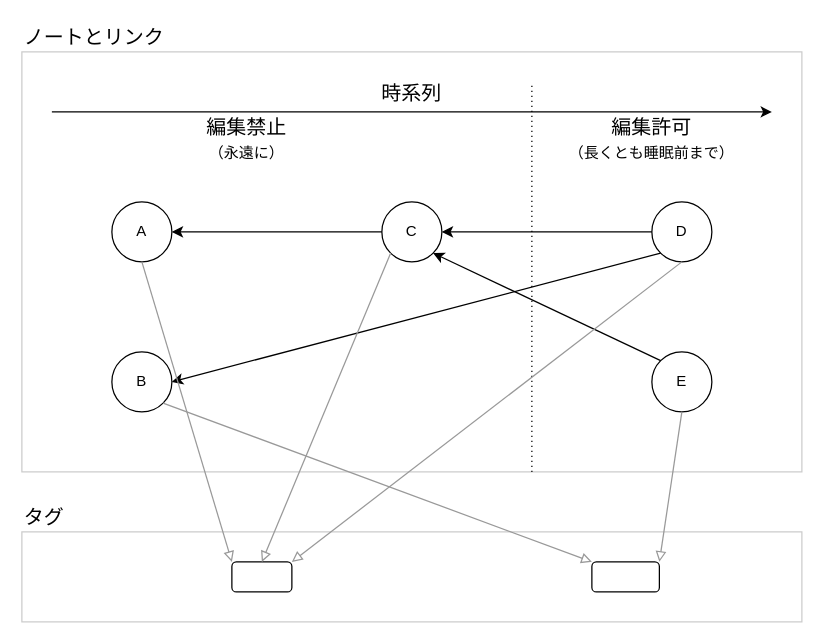
The diagram is 824 pixels wide and 644 high, and some of its shapes have lost their labels. Here are the shapes that lost their labels. From the top down, the centre of each, then its label:
At (261,576): "# タグ1".
At (625,576): "# タグ2".
